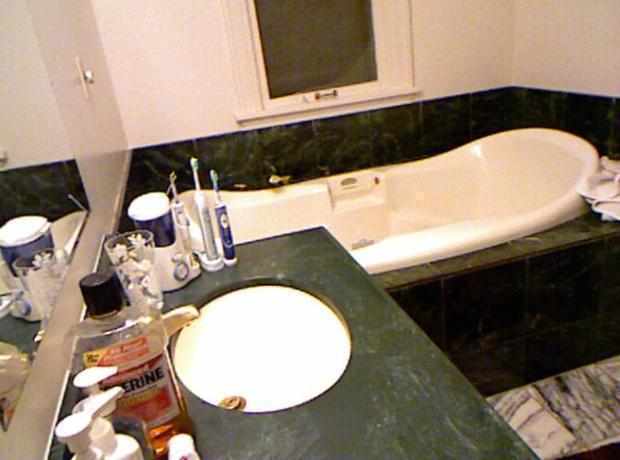Lavamanos: (71, 262, 362, 446)
